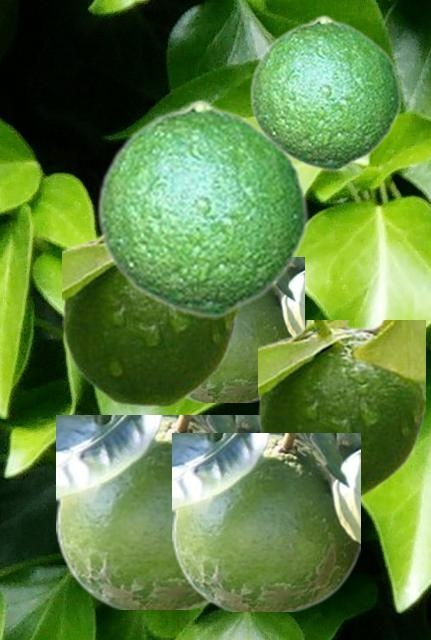dalandan: (95, 98, 308, 318), (56, 415, 258, 608), (172, 433, 359, 610), (62, 233, 236, 406), (258, 320, 424, 496), (248, 14, 401, 171), (187, 257, 303, 401)
